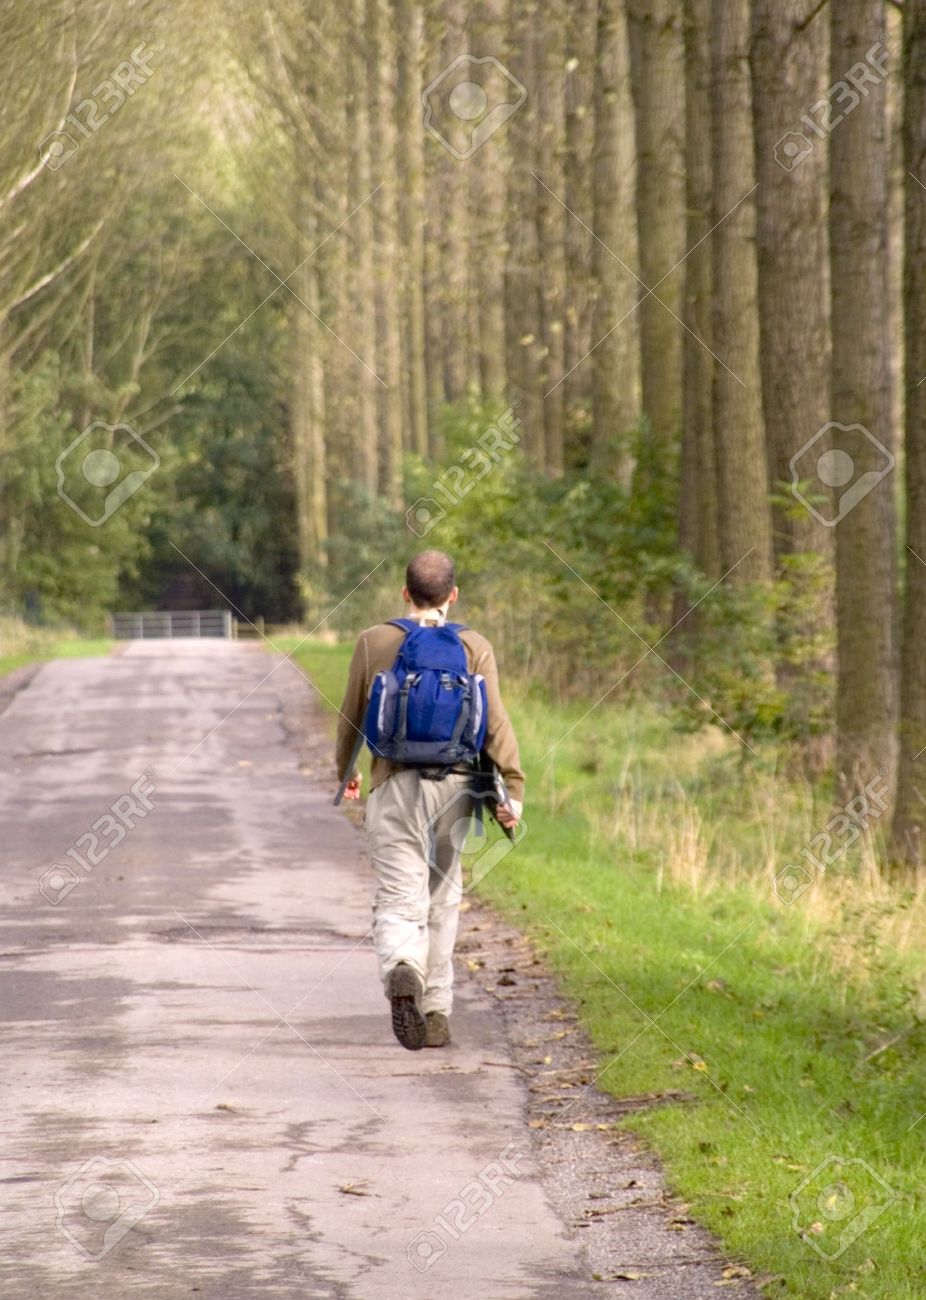person: (329, 542, 527, 1056)
